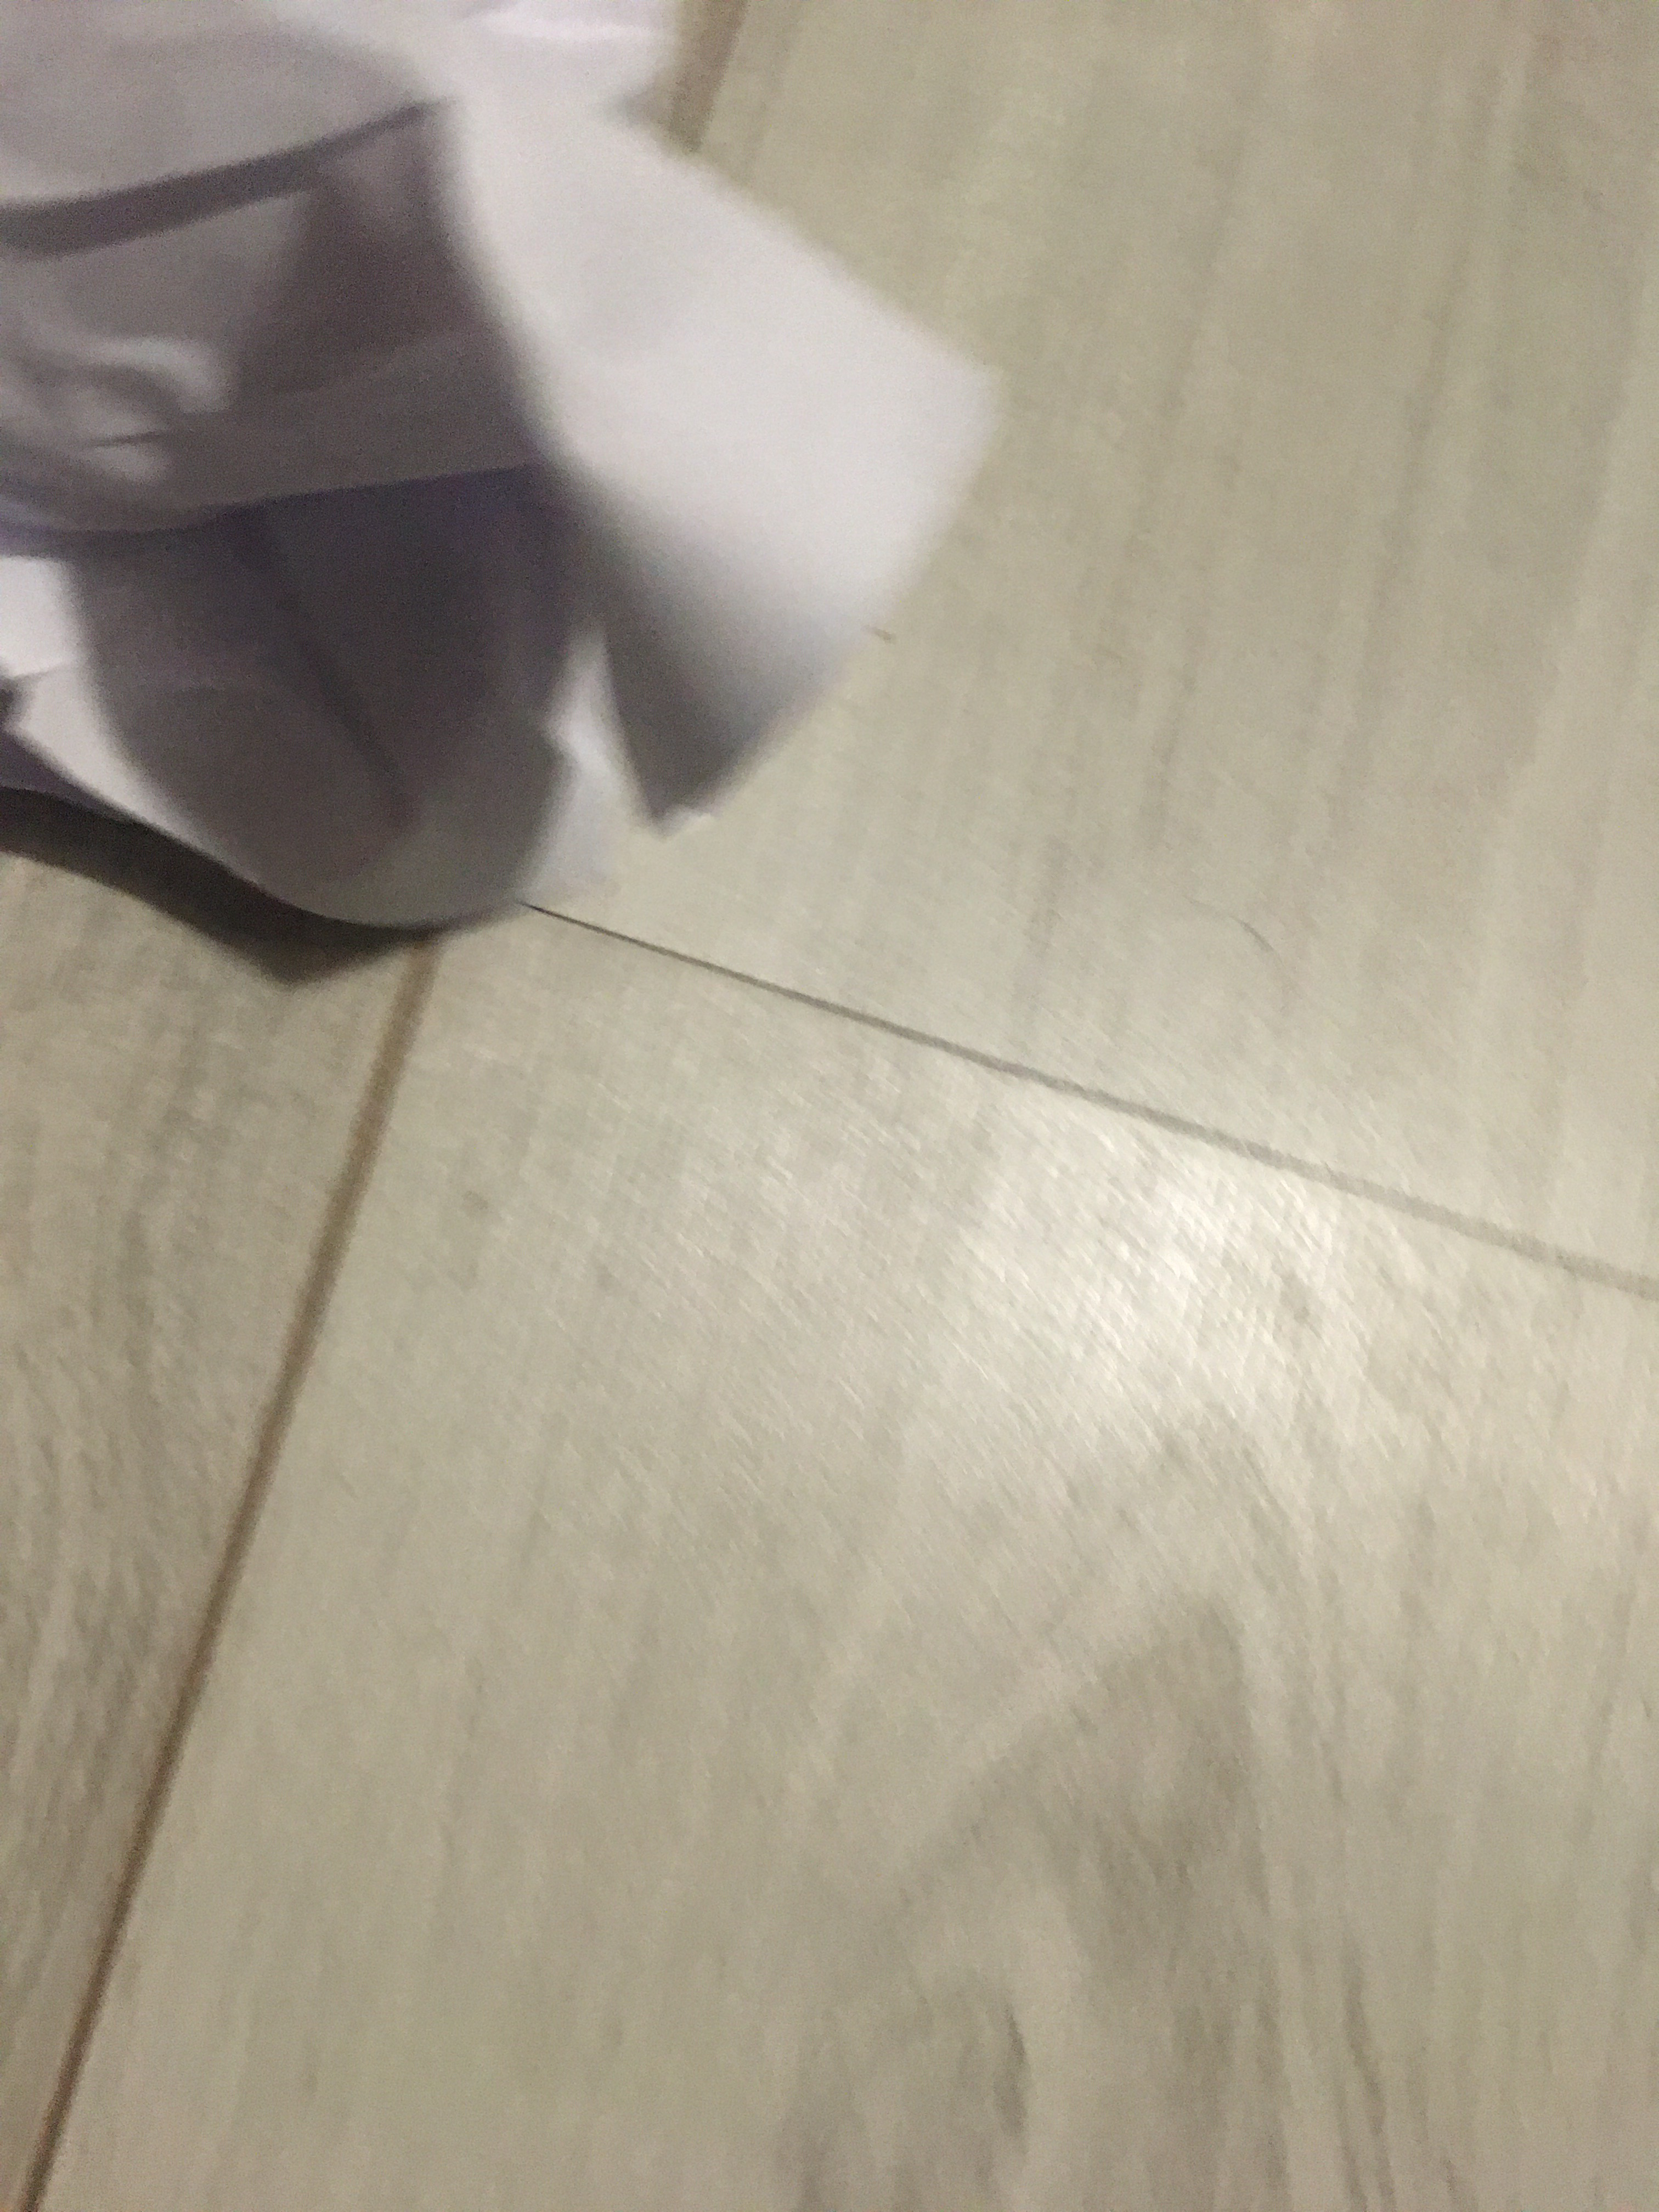paper: (3, 12, 1016, 930)
